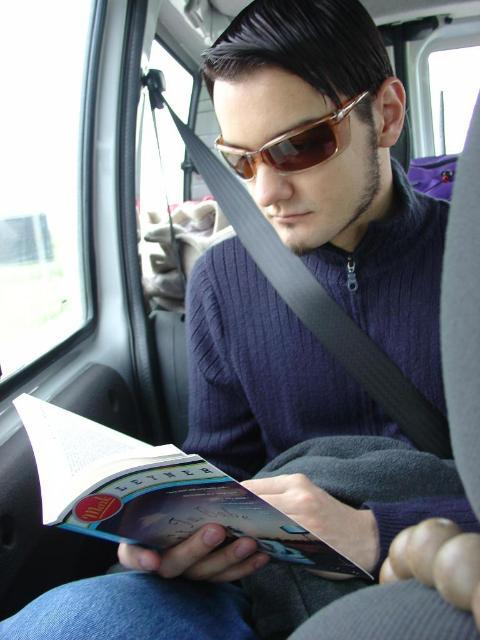Seatbelt: (154, 64, 456, 463)
